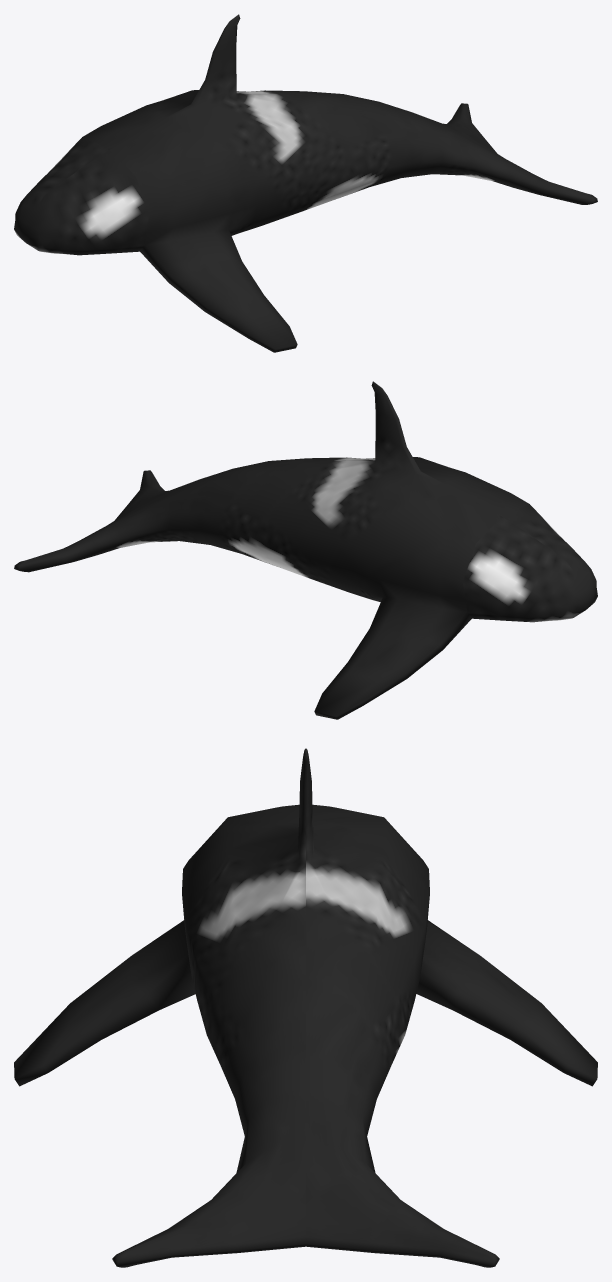
File: killer_whale.glb
The picture shows the model from 3 angles, top to bottom: view 1: azimuth 30°, elevation 25°; view 2: azimuth 150°, elevation 25°; view 3: azimuth 270°, elevation 25°; orthographic projection. The views are drawn at different scales.
Visible parts, largest first — view 1: tex-subsea.jpg__; view 2: tex-subsea.jpg__; view 3: tex-subsea.jpg__.
Boxes of the visible parts, x1,y1,x2,y2 form: tex-subsea.jpg__: (14,14,597,352); tex-subsea.jpg__: (14,381,597,719); tex-subsea.jpg__: (14,748,597,1267).
Size of the model in its own units: 17.67 by 8.35 by 12.01.
Materials: 1 (1 with a texture image).
